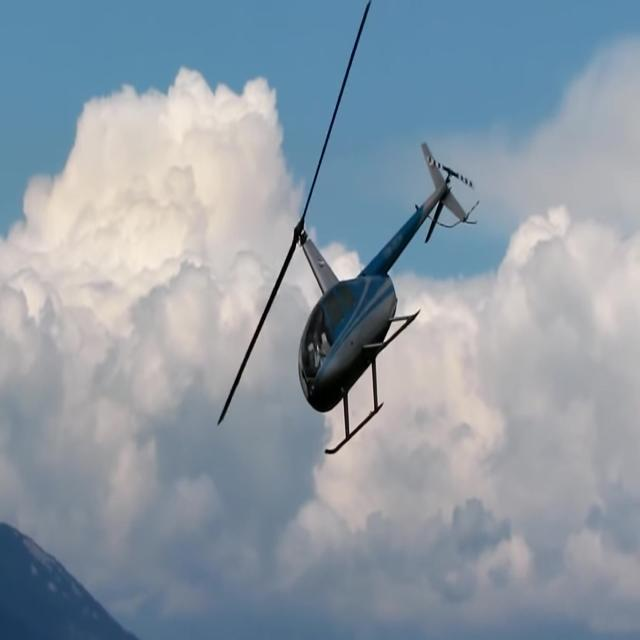CIV_HELO: (291, 140, 472, 457)
